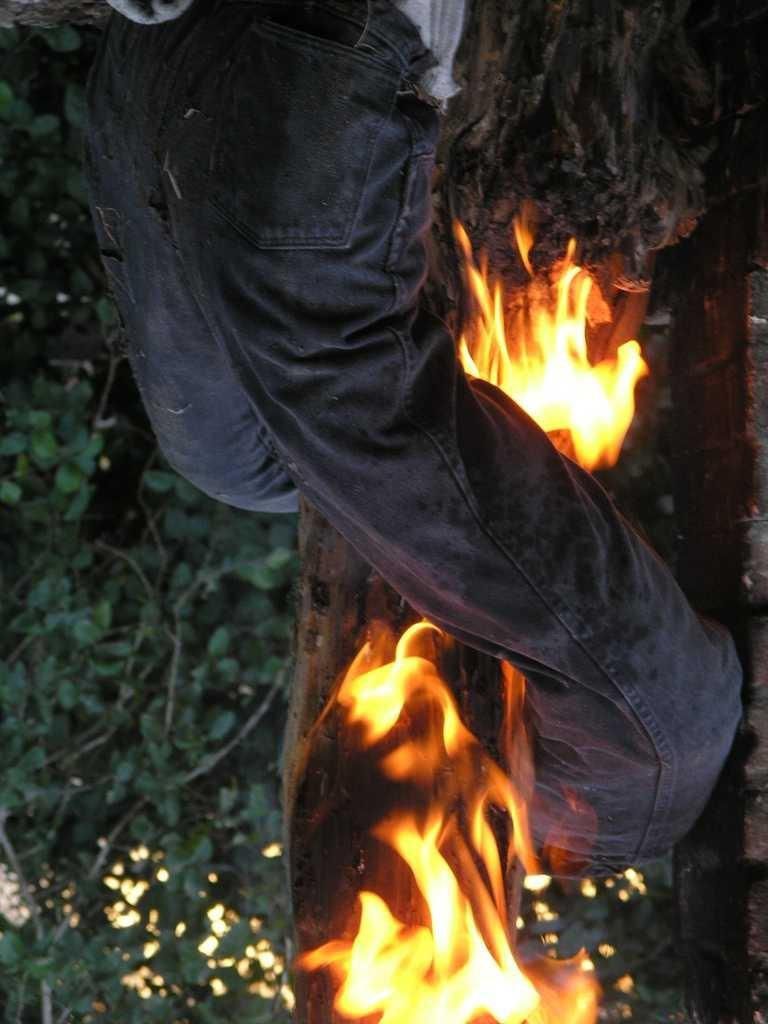fire: (321, 661, 542, 1024), (464, 254, 651, 450)
